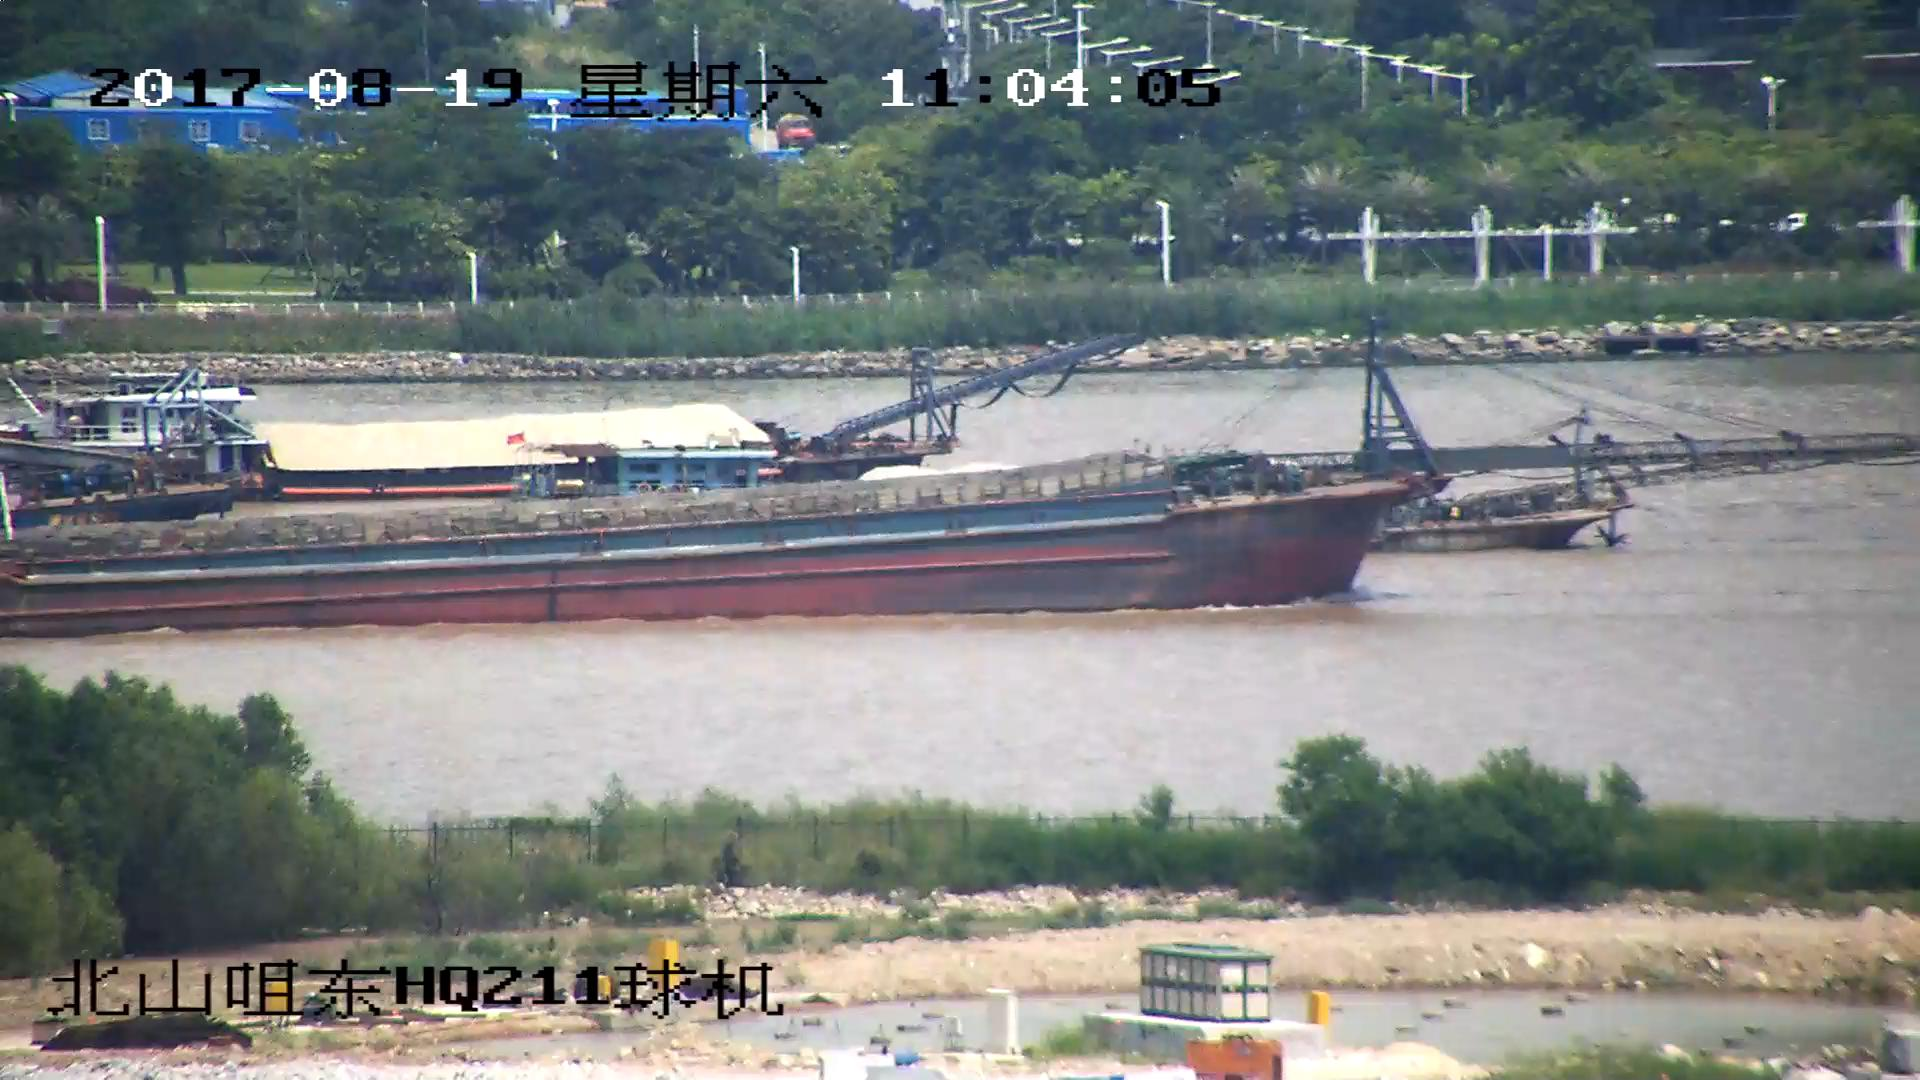bulk cargo carrier: (1, 315, 1744, 636)
ore carrier: (1, 338, 1135, 487), (1361, 421, 1903, 559)
